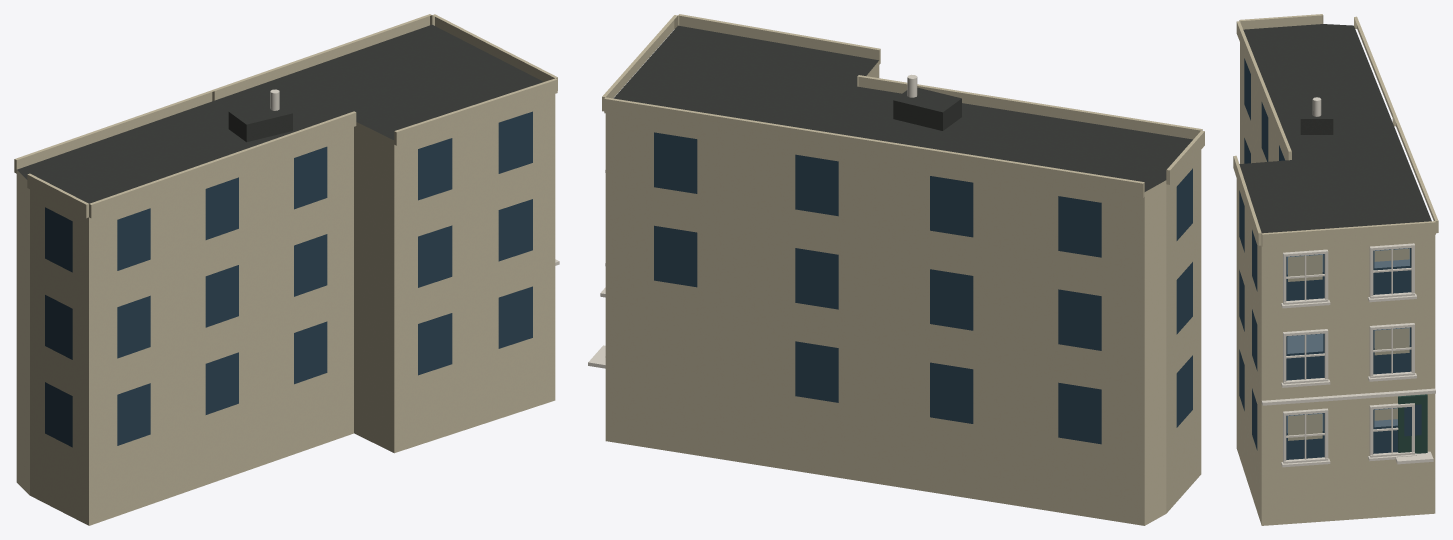
3 views of the same model, side by side, from view 1: azimuth 30°, elevation 25°; view 2: azimuth 150°, elevation 25°; view 3: azimuth 270°, elevation 25° (orthographic). The views are drawn at different scales.
Parts seen in each view (by area): view 1: Footprint 0 / surface 2, Inset glazing, Footprint 0 / surface 1, Facade bay volumes, Inferred rooftop service enclosure / surface 5, Inferred rooftop service enclosure / surface 3; view 2: Footprint 0 / surface 2, Footprint 0 / surface 1, Inset glazing, Facade bay volumes, Inferred rooftop service enclosure / surface 6, Inferred rooftop service enclosure / surface 3; view 3: Footprint 0 / surface 2, Footprint 0 / surface 1, Cornices and window frames, Inset glazing, Facade bay volumes, Interior blind variation, Sky reflection panels, Storefronts and doors, Inferred rooftop service enclosure / surface 3, Inferred rooftop service enclosure / surface 1.
Part boxes in pixels (<box>): Footprint 0 / surface 2: <box>16,94,555,525</box>; Inset glazing: <box>45,111,532,447</box>; Footprint 0 / surface 1: <box>17,24,543,203</box>; Facade bay volumes: <box>14,14,557,218</box>; Inferred rooftop service enclosure / surface 5: <box>246,113,292,141</box>; Inferred rooftop service enclosure / surface 3: <box>229,101,292,124</box>; Footprint 0 / surface 2: <box>605,61,1201,525</box>; Footprint 0 / surface 1: <box>613,25,1192,191</box>; Inset glazing: <box>654,132,1192,444</box>; Facade bay volumes: <box>602,14,1204,197</box>; Inferred rooftop service enclosure / surface 6: <box>893,100,942,130</box>; Inferred rooftop service enclosure / surface 3: <box>893,87,961,112</box>; Footprint 0 / surface 2: <box>1236,42,1435,525</box>; Footprint 0 / surface 1: <box>1239,24,1431,233</box>; Cornices and window frames: <box>1261,243,1435,467</box>; Inset glazing: <box>1239,58,1421,459</box>; Facade bay volumes: <box>1233,14,1438,246</box>; Interior blind variation: <box>1288,248,1409,440</box>; Sky reflection panels: <box>1287,248,1409,433</box>; Storefronts and doors: <box>1398,394,1427,453</box>; Inferred rooftop service enclosure / surface 3: <box>1300,98,1333,118</box>; Inferred rooftop service enclosure / surface 1: <box>1300,119,1333,134</box>.
Bounding box in the file's own units: 19.31 × 12.86 × 7.56.
